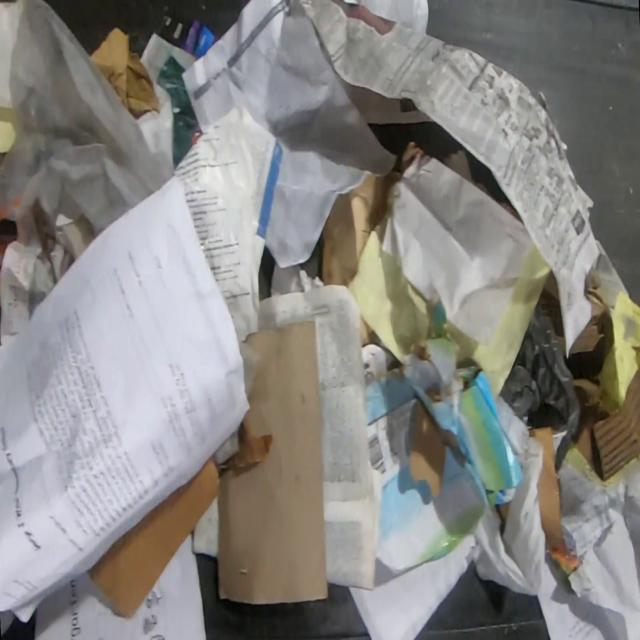cardboard: (362, 333, 525, 575), (216, 319, 331, 605), (85, 454, 220, 620), (566, 263, 640, 481), (319, 140, 427, 288), (526, 425, 583, 579), (88, 24, 162, 120), (539, 268, 565, 358), (360, 316, 380, 348)
soft_plastic: (0, 0, 174, 240), (498, 297, 584, 473)
